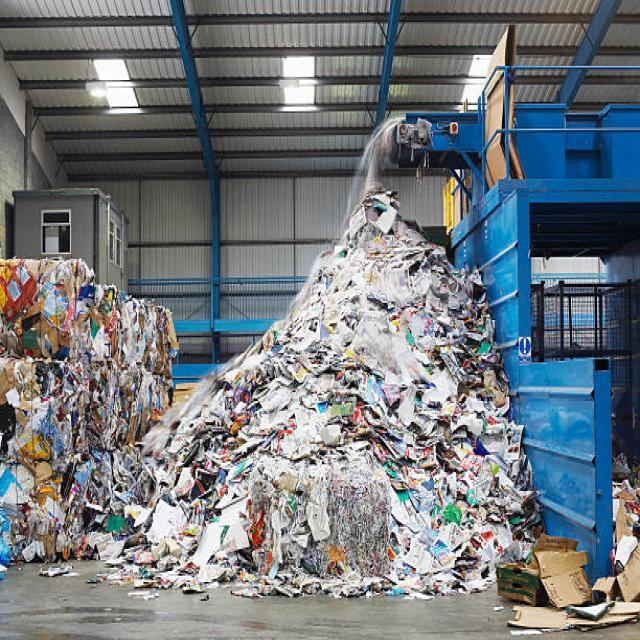cardboard: (1, 292, 180, 522), (497, 532, 597, 608), (614, 472, 640, 555)
trash: (193, 191, 502, 587)
